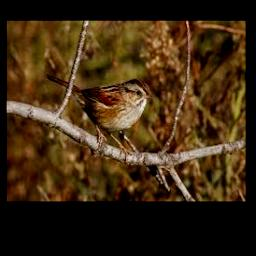Sparrow: (47, 75, 153, 162)
